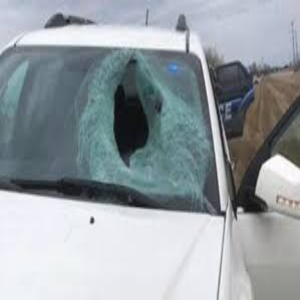front_windshield_glass: (11, 54, 212, 192)
